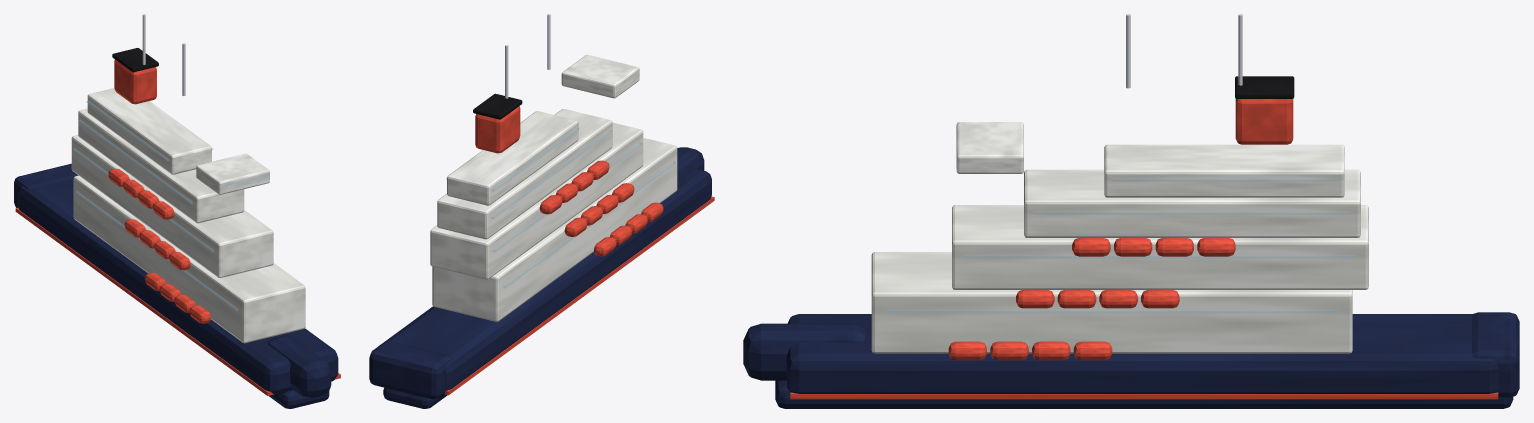
File: ship_cruise.glb
3 renders of one model, left to right at view 1: azimuth 30°, elevation 25°; view 2: azimuth 150°, elevation 25°; view 3: azimuth 270°, elevation 25°, orthographic. The views are drawn at different scales.
Visible parts, largest first — view 1: ship_cruise_tier0, ship_cruise_sides, ship_cruise_tier1, ship_cruise_tier2, ship_cruise_tier3, ship_cruise_bow, ship_cruise_bridge, ship_cruise_funnel, ship_cruise_stripe, ship_cruise_transom, ship_cruise_funnel_cap, ship_cruise_keel (+8 smaller); view 2: ship_cruise_sides, ship_cruise_tier0, ship_cruise_tier1, ship_cruise_tier2, ship_cruise_tier3, ship_cruise_transom, ship_cruise_bridge, ship_cruise_funnel, ship_cruise_stripe, ship_cruise_funnel_cap, ship_cruise_keel, ship_cruise_bow (+7 smaller); view 3: ship_cruise_sides, ship_cruise_tier0, ship_cruise_tier1, ship_cruise_tier2, ship_cruise_tier3, ship_cruise_keel, ship_cruise_stripe, ship_cruise_bow, ship_cruise_bridge, ship_cruise_transom, ship_cruise_funnel, ship_cruise_balcony0_r (+16 smaller).
Boxes of the visible parts, x1=… form: ship_cruise_tier0: x1=73, y1=175, x2=305, y2=343; ship_cruise_sides: x1=18, y1=178, x2=338, y2=395; ship_cruise_tier1: x1=71, y1=135, x2=273, y2=277; ship_cruise_tier2: x1=78, y1=108, x2=244, y2=223; ship_cruise_tier3: x1=87, y1=88, x2=211, y2=174; ship_cruise_bow: x1=267, y1=336, x2=331, y2=397; ship_cruise_bridge: x1=196, y1=153, x2=269, y2=194; ship_cruise_funnel: x1=114, y1=59, x2=156, y2=104; ship_cruise_stripe: x1=15, y1=207, x2=340, y2=395; ship_cruise_transom: x1=14, y1=163, x2=78, y2=207; ship_cruise_funnel_cap: x1=112, y1=48, x2=158, y2=72; ship_cruise_keel: x1=269, y1=390, x2=329, y2=408; ship_cruise_sides: x1=379, y1=167, x2=711, y2=390; ship_cruise_tier0: x1=432, y1=138, x2=677, y2=321; ship_cruise_tier1: x1=430, y1=122, x2=643, y2=279; ship_cruise_tier2: x1=437, y1=109, x2=612, y2=239; ship_cruise_tier3: x1=447, y1=111, x2=578, y2=205; ship_cruise_transom: x1=369, y1=341, x2=452, y2=399; ship_cruise_bridge: x1=561, y1=54, x2=639, y2=98; ship_cruise_funnel: x1=475, y1=106, x2=520, y2=153; ship_cruise_stripe: x1=444, y1=196, x2=714, y2=395; ship_cruise_funnel_cap: x1=473, y1=93, x2=522, y2=119; ship_cruise_keel: x1=383, y1=387, x2=447, y2=408; ship_cruise_bow: x1=677, y1=147, x2=704, y2=172; ship_cruise_sides: x1=786, y1=314, x2=1498, y2=394; ship_cruise_tier0: x1=871, y1=252, x2=1352, y2=353; ship_cruise_tier1: x1=952, y1=205, x2=1368, y2=289; ship_cruise_tier2: x1=1024, y1=169, x2=1360, y2=237; ship_cruise_tier3: x1=1104, y1=144, x2=1344, y2=197; ship_cruise_keel: x1=775, y1=380, x2=1513, y2=408; ship_cruise_stripe: x1=790, y1=392, x2=1498, y2=399; ship_cruise_bow: x1=743, y1=323, x2=867, y2=380; ship_cruise_bridge: x1=956, y1=122, x2=1023, y2=173; ship_cruise_transom: x1=1472, y1=312, x2=1519, y2=397; ship_cruise_funnel: x1=1235, y1=98, x2=1293, y2=144; ship_cruise_balcony0_r: x1=886, y1=310, x2=1337, y2=313.
Size of the model in its own units: 9.46 by 26.3 by 48.4.
Materials: 7 (7 with a texture image).
